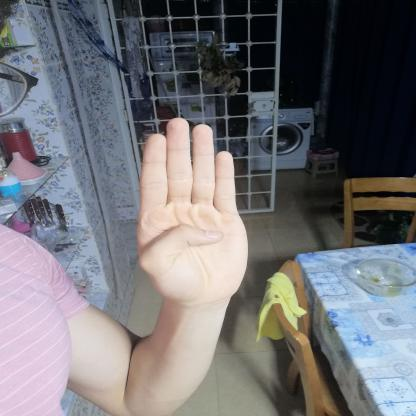KAAF: (126, 107, 262, 314)
